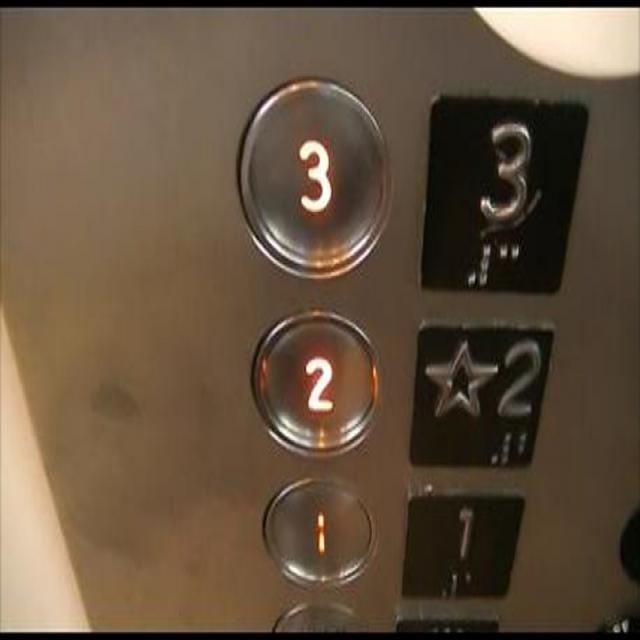1: (402, 485, 524, 604), (262, 473, 376, 592)
2: (251, 308, 383, 460)
3: (422, 88, 588, 295), (235, 75, 391, 280)
s2: (407, 317, 551, 468)
